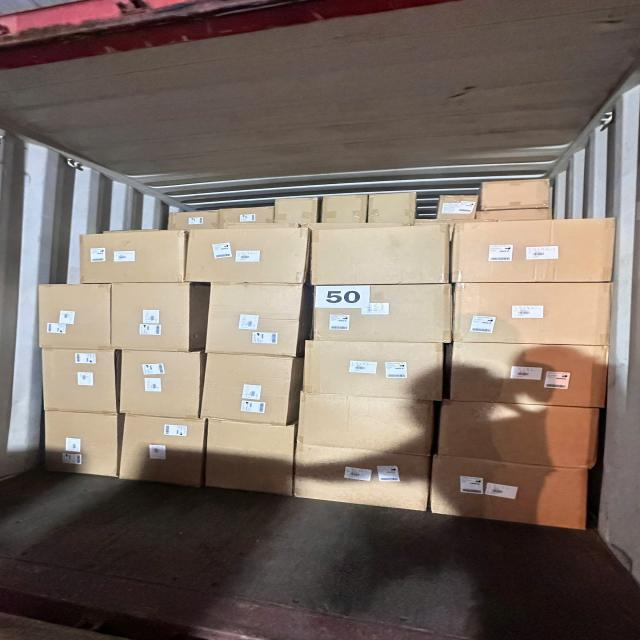Carton: (428, 453, 588, 529), (438, 398, 600, 469), (449, 342, 606, 408), (451, 220, 617, 282), (450, 282, 610, 346), (294, 444, 426, 512), (308, 223, 452, 284), (309, 284, 454, 342), (294, 392, 429, 454), (301, 339, 440, 398), (202, 282, 304, 357), (205, 418, 294, 498), (202, 351, 296, 426), (188, 229, 310, 284), (108, 283, 199, 353), (117, 414, 203, 486), (112, 350, 200, 418), (34, 347, 119, 415), (76, 233, 185, 284), (39, 411, 121, 477), (34, 283, 110, 350)
